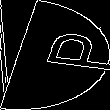P_W: (7, 31, 103, 79)
